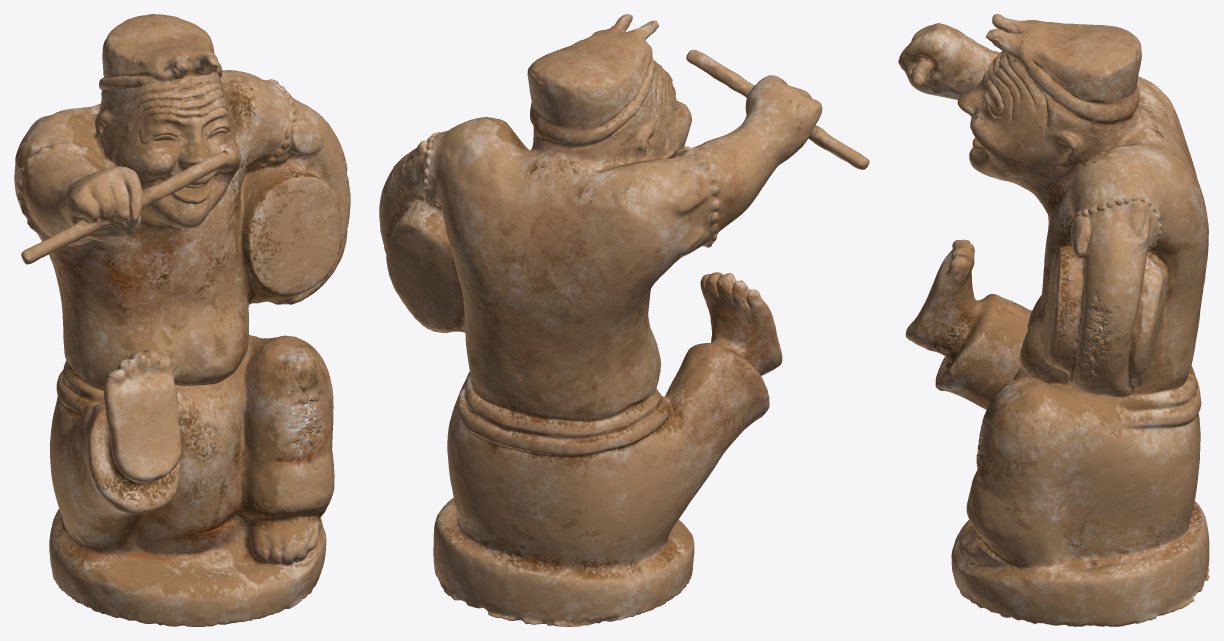
File: shuochangtaoyong.glb
3 renders of one model, left to right at view 1: azimuth 30°, elevation 25°; view 2: azimuth 150°, elevation 25°; view 3: azimuth 270°, elevation 25°, orthographic. The views are drawn at different scales.
Visible parts, largest first — view 1: Obj3d66-10625473-1-277; view 2: Obj3d66-10625473-1-277; view 3: Obj3d66-10625473-1-277.
Part boxes in pixels (left/top/right/bottom): Obj3d66-10625473-1-277: left=14, top=14, right=350, bottom=626; Obj3d66-10625473-1-277: left=379, top=14, right=869, bottom=626; Obj3d66-10625473-1-277: left=898, top=14, right=1209, bottom=626.
Bounding box in the file's own units: 30.42 × 39.46 × 20.52.
Materials: 1 (1 with a texture image).
